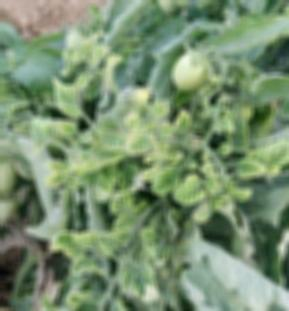Tomato leaf yellow virus: (55, 144, 113, 184), (255, 132, 289, 181), (162, 176, 209, 211), (46, 76, 82, 119), (132, 258, 160, 311), (118, 126, 163, 156), (148, 164, 185, 199), (45, 228, 86, 259), (105, 190, 137, 229), (230, 154, 262, 184), (29, 115, 54, 152), (93, 231, 122, 253)
